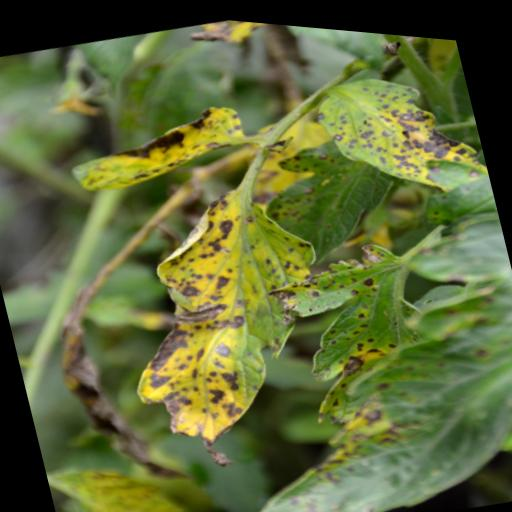Early Blight: (180, 178, 512, 512), (98, 156, 352, 456), (302, 41, 490, 210), (58, 86, 261, 204)
